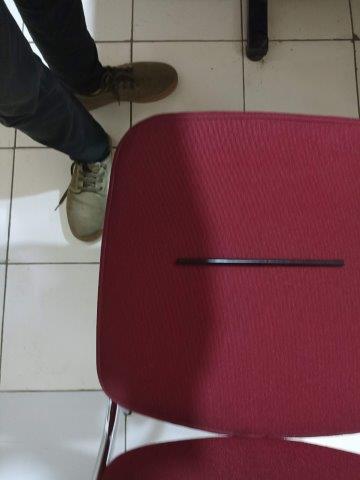sedotan: (177, 258, 344, 267)
